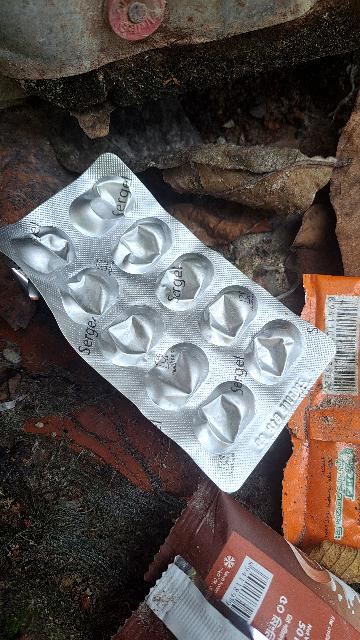medicine: (0, 132, 357, 495)
